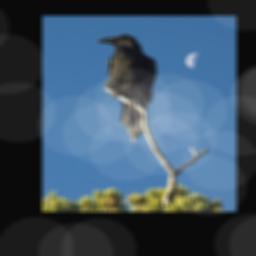Crow: (96, 34, 157, 145)
